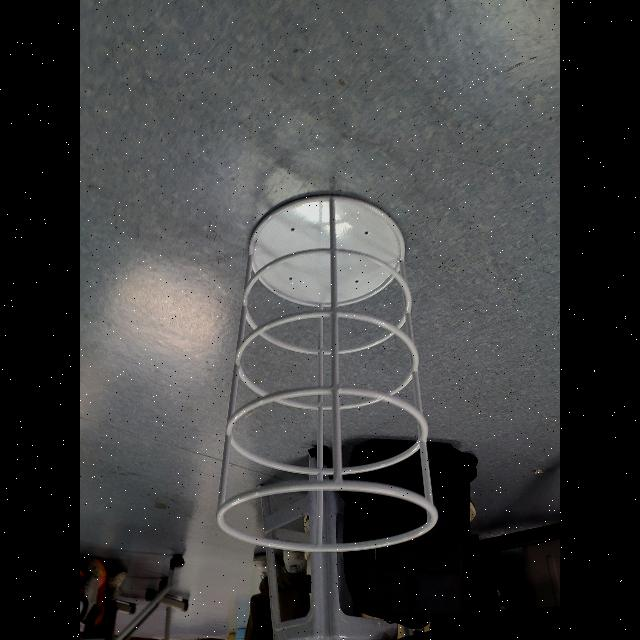S: (214, 191, 442, 554)
